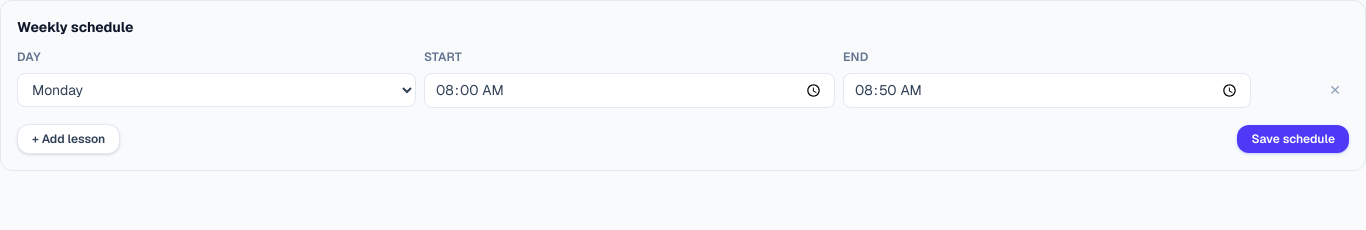
Scenario: ScheduleEditor › starts from the saved schedule and saves added lessons
This screenshot has width=1366, height=230.
Check: the dropdown named "Day 1" shows "Monday", box [17, 73, 416, 107]
Click the button "+ Add lesson".
click(69, 139)  # box [17, 124, 120, 154]
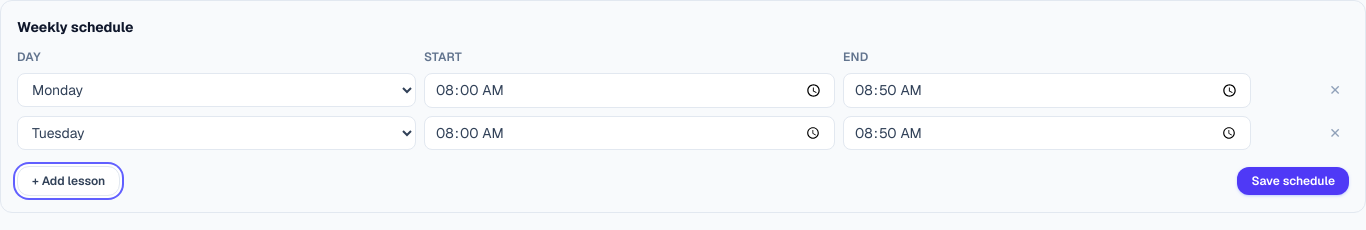
Check: the dropdown named "Day 2" shows "Tuesday", box [17, 116, 416, 150]
Click the button "Save schedule".
click(1293, 181)  # box [1237, 167, 1349, 195]
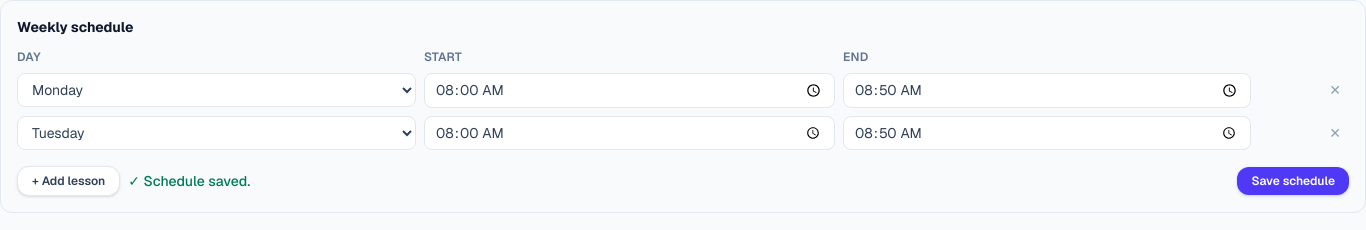
Check: the message shows "Schedule saved.", box [143, 172, 250, 190]
